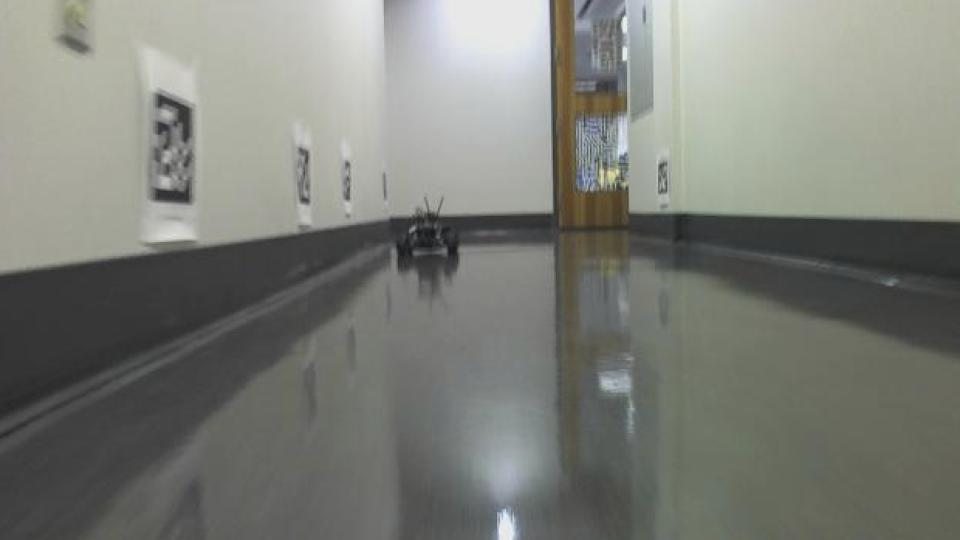car: (396, 192, 464, 266)
